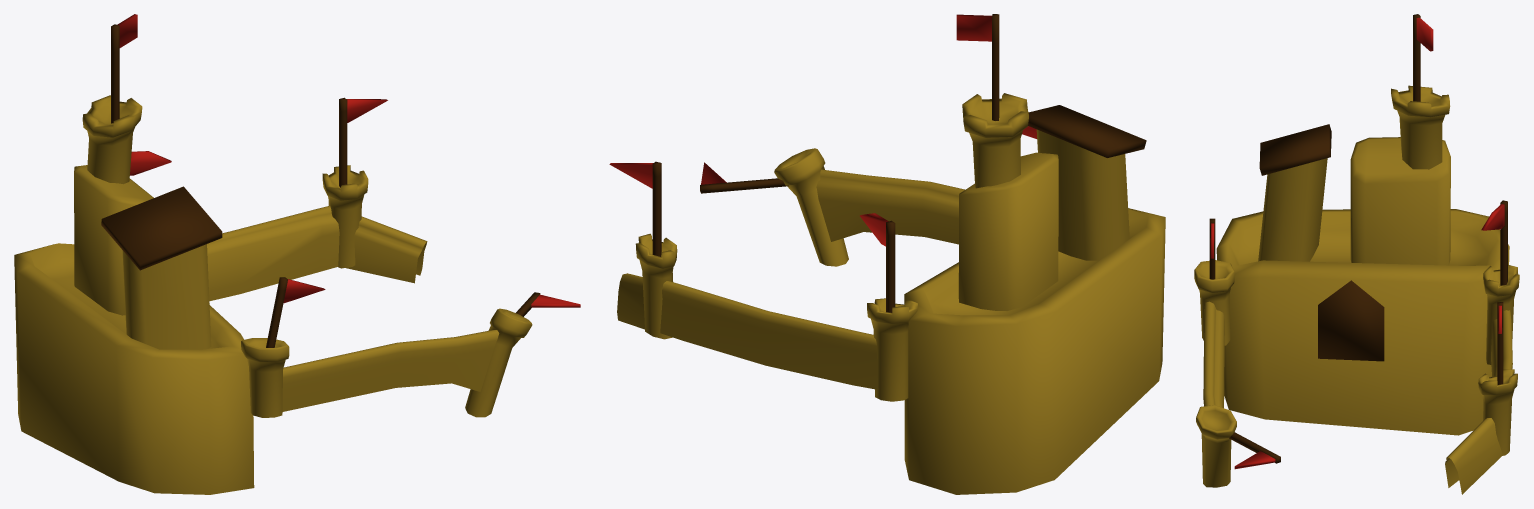
File: SandCastle002.FBX
3 views of the same model, side by side, from view 1: azimuth 30°, elevation 25°; view 2: azimuth 150°, elevation 25°; view 3: azimuth 270°, elevation 25° (orthographic). The views are drawn at different scales.
Visible parts, largest first — view 1: Box011; view 2: Box011; view 3: Box011.
Boxes of the visible parts, x1,y1,x2,y2 form: Box011: [14, 14, 580, 494]; Box011: [609, 14, 1165, 494]; Box011: [1194, 14, 1519, 494].
Bounding box in the file's own units: 407 × 361 × 273.
